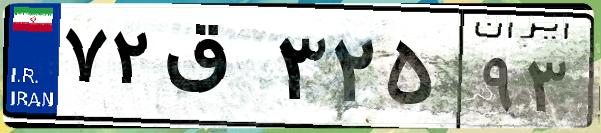2: (330, 28, 385, 110), (110, 28, 158, 98)
3: (270, 28, 330, 110), (525, 38, 570, 115)
5: (385, 28, 445, 110)
7: (57, 26, 110, 100)
9: (475, 38, 525, 113)
ق: (158, 20, 270, 120)
